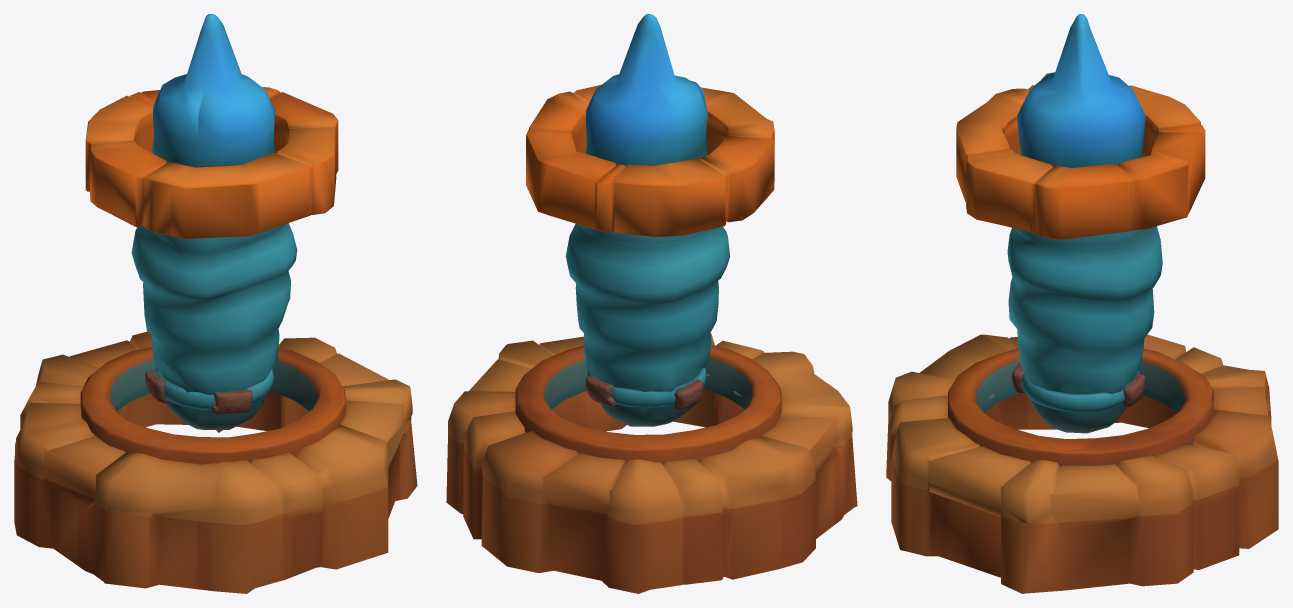
The picture shows the model from 3 angles, left to right: view 1: azimuth 30°, elevation 25°; view 2: azimuth 150°, elevation 25°; view 3: azimuth 270°, elevation 25°; orthographic projection.
Visible parts, largest first — view 1: tripo_node_b49456d5-572d-4bab-8991-c4786c059b18; view 2: tripo_node_b49456d5-572d-4bab-8991-c4786c059b18; view 3: tripo_node_b49456d5-572d-4bab-8991-c4786c059b18.
Boxes of the visible parts, left/top/right/bottom form: tripo_node_b49456d5-572d-4bab-8991-c4786c059b18: left=14, top=14, right=417, bottom=593; tripo_node_b49456d5-572d-4bab-8991-c4786c059b18: left=446, top=14, right=857, bottom=593; tripo_node_b49456d5-572d-4bab-8991-c4786c059b18: left=886, top=14, right=1278, bottom=593.
Size of the model in its own units: 0.7441 by 0.998 by 0.7207.
Materials: 1 (1 with a texture image).
